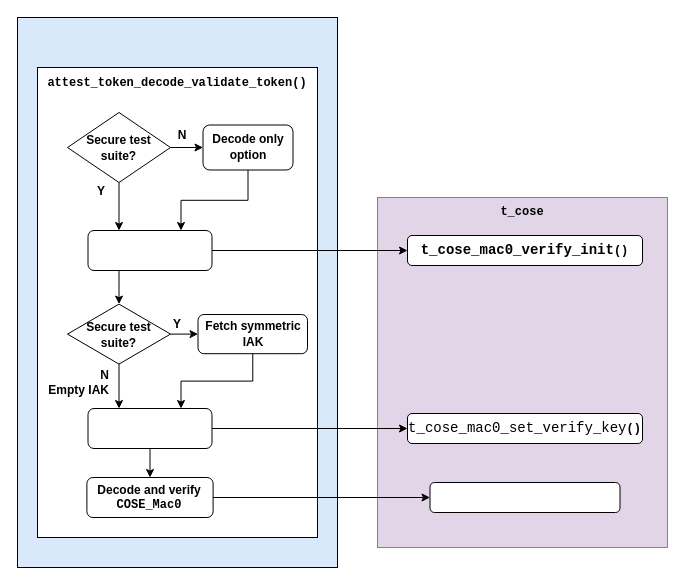
Some shapes in this 685 by 585 pixel diagram are drawn without their labels. Here are the shapes that lost their labels. From the top down, the box of each, then its label:
(87, 230, 212, 270): Setup COSE_Mac0 verification
(16, 16, 338, 568): attest_symmetric_iat_decode.c
(87, 408, 212, 448): Set COSE_Mac0 verification key
(429, 482, 620, 512): t_cose_mac0_verify()
